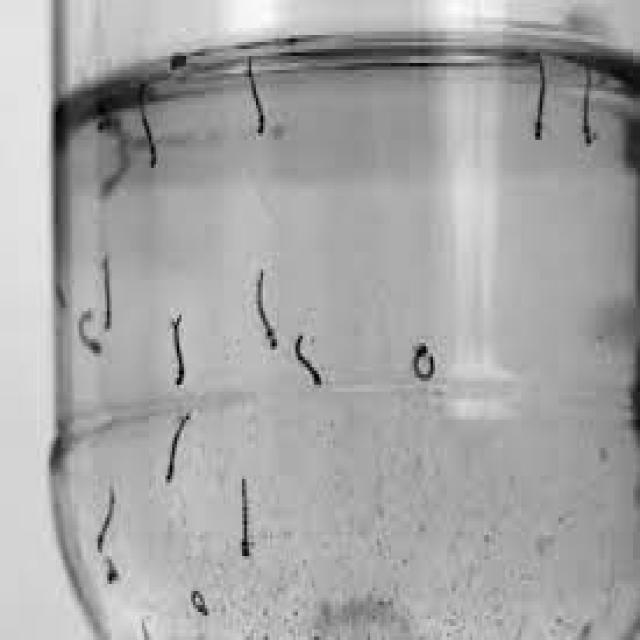larvas: (97, 116, 131, 197), (164, 412, 193, 484), (255, 271, 278, 348), (244, 60, 266, 134), (138, 93, 158, 165), (294, 340, 322, 388), (580, 67, 596, 145), (410, 340, 439, 382), (533, 55, 547, 141), (96, 490, 115, 553), (79, 308, 103, 357), (239, 480, 253, 554), (173, 314, 187, 386), (102, 258, 115, 328), (192, 589, 210, 617), (103, 556, 119, 584)
